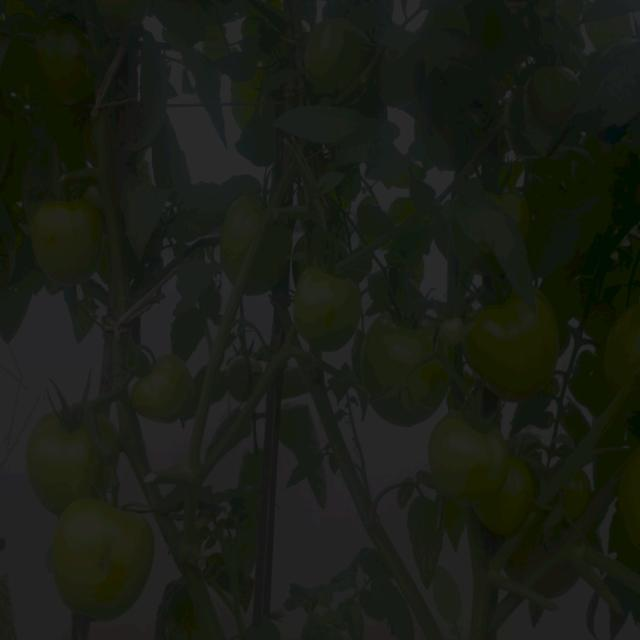tomato: (52, 495, 155, 618), (360, 314, 447, 421), (472, 294, 562, 396), (37, 407, 122, 510), (25, 196, 109, 291), (433, 408, 507, 505), (302, 18, 376, 107), (294, 270, 369, 343), (135, 353, 202, 425), (45, 23, 100, 102), (480, 461, 537, 530), (528, 61, 577, 129), (226, 195, 265, 267), (605, 307, 640, 384), (254, 232, 294, 293), (619, 448, 640, 555), (493, 181, 538, 230), (558, 482, 590, 528), (443, 313, 474, 349)
